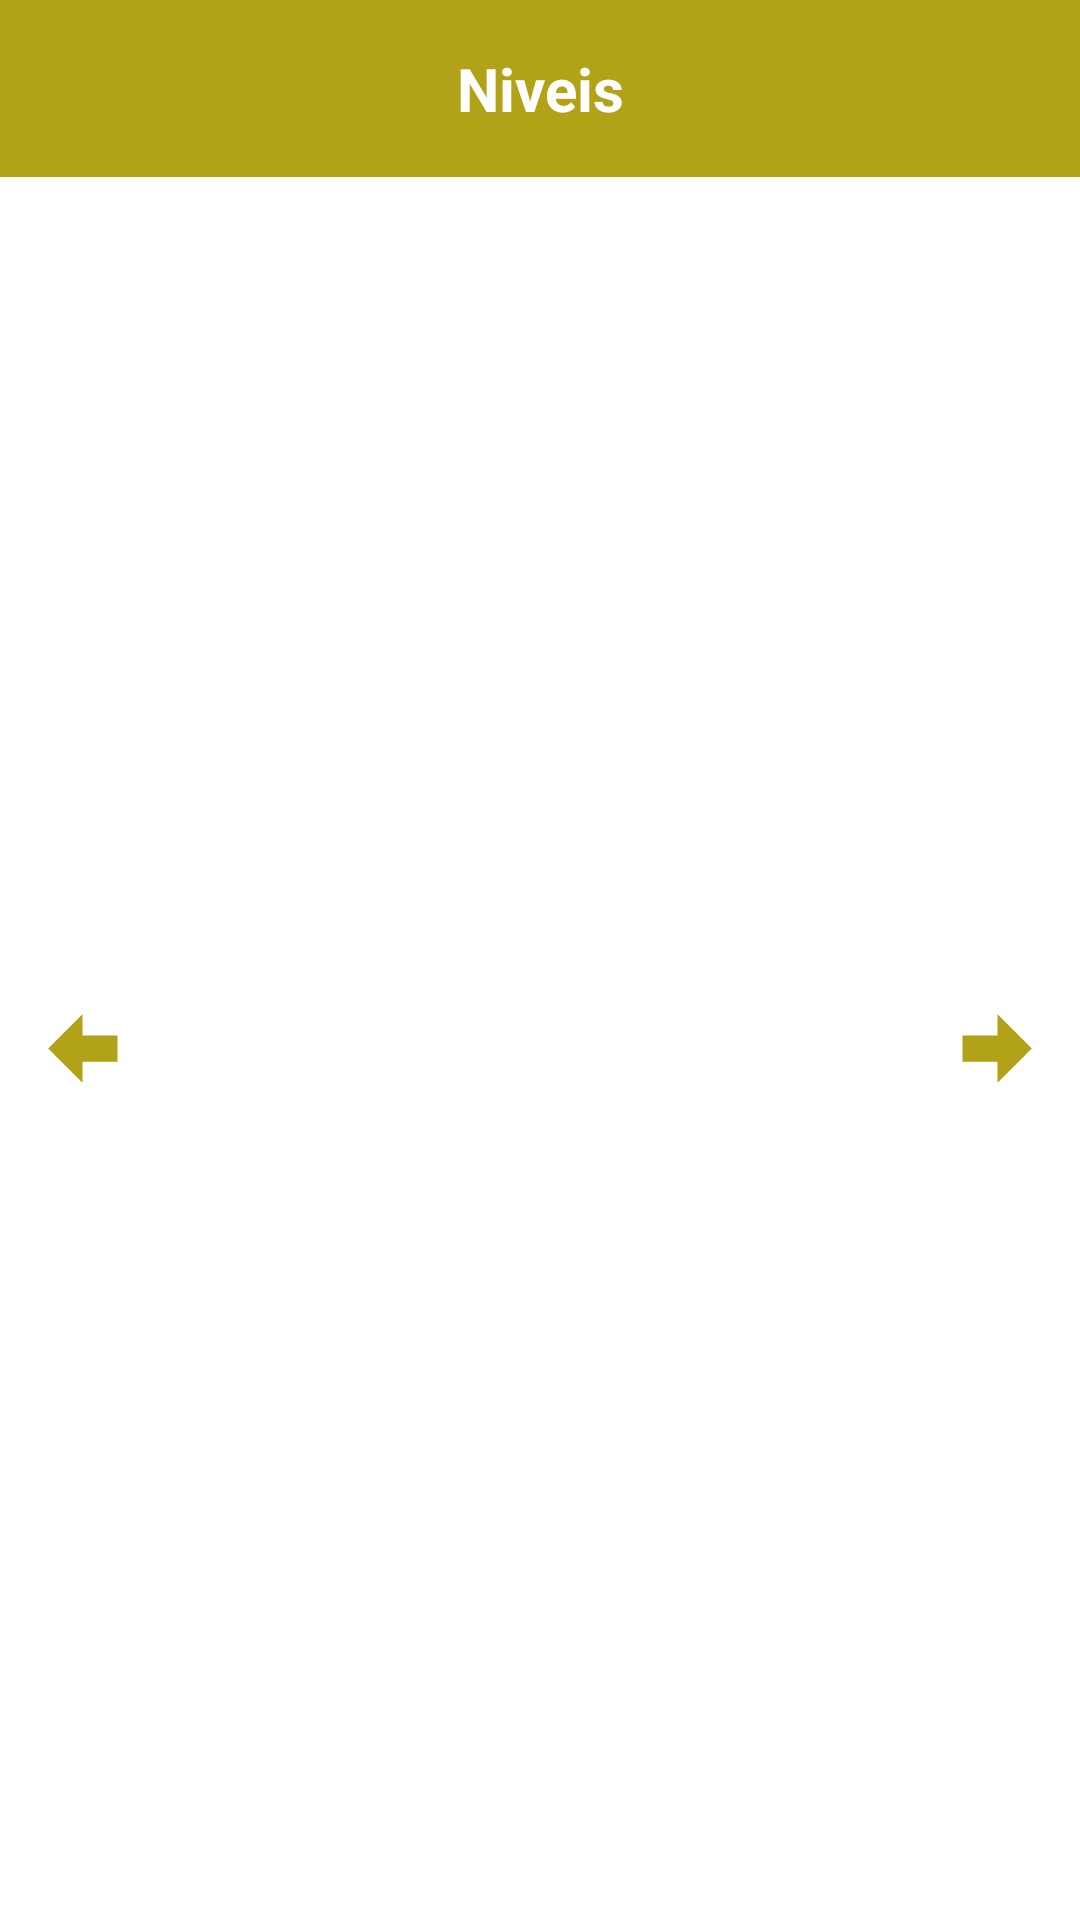

Where icons sit on this 1080x1920 app screen, as (x1, y1, x2, y2):
arrow left: (48, 1014, 118, 1083)
arrow right: (962, 1014, 1032, 1083)
